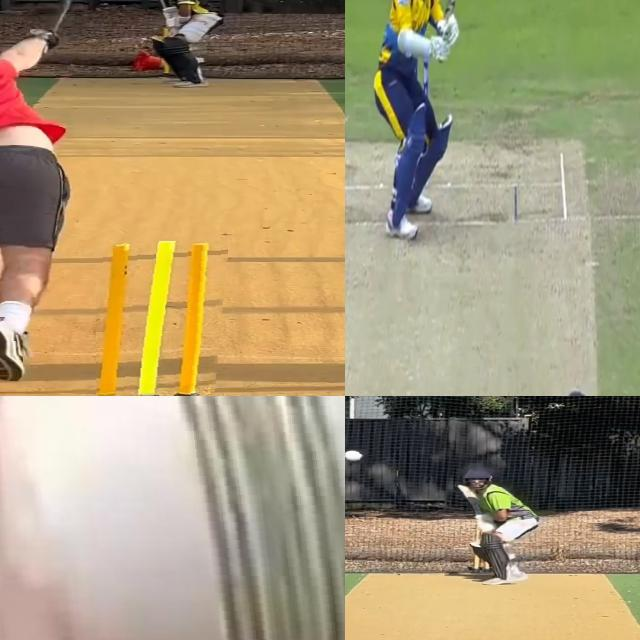Cricket ball: (0, 396, 345, 640), (345, 448, 364, 463), (470, 539, 482, 547)
Stumps: (96, 241, 230, 396)
